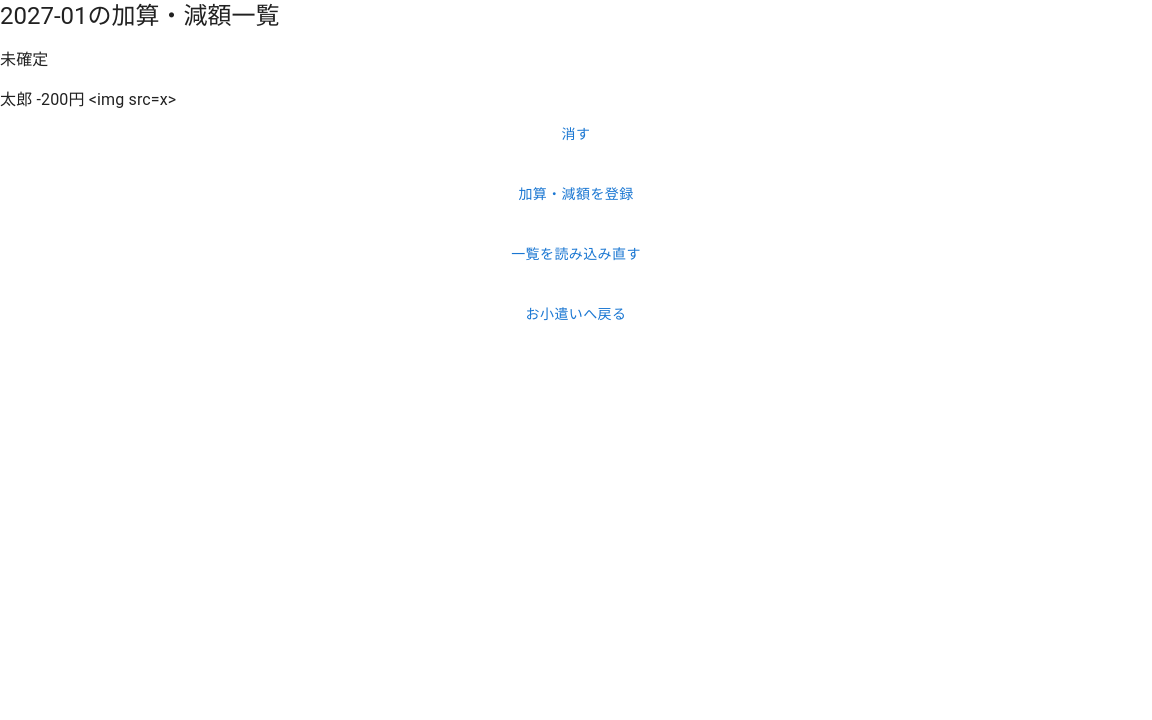
Test: 独立した訂正一覧と確認 › 取消では送らず確認元へフォーカスを戻す
Step 1. Click the button with test id "adjustment-delete" → (576, 134), box left=0, top=112, right=1151, bottom=156
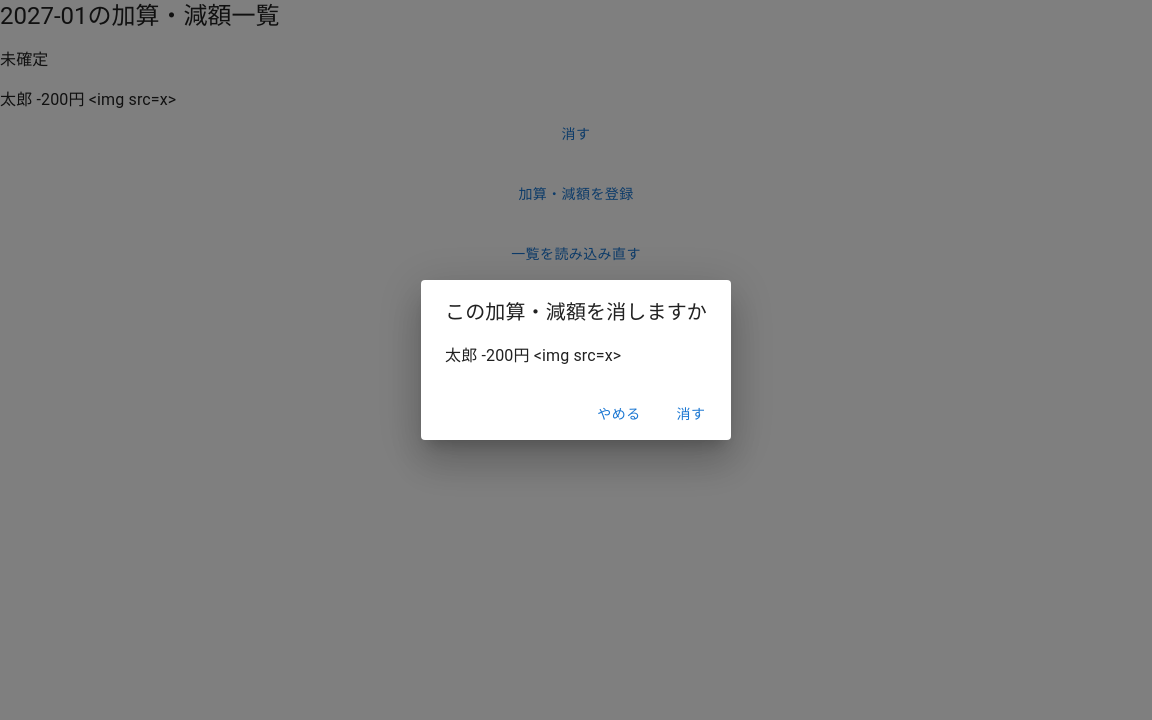
Step 2. Click the button "やめる" → (619, 414), box left=587, top=396, right=651, bottom=432
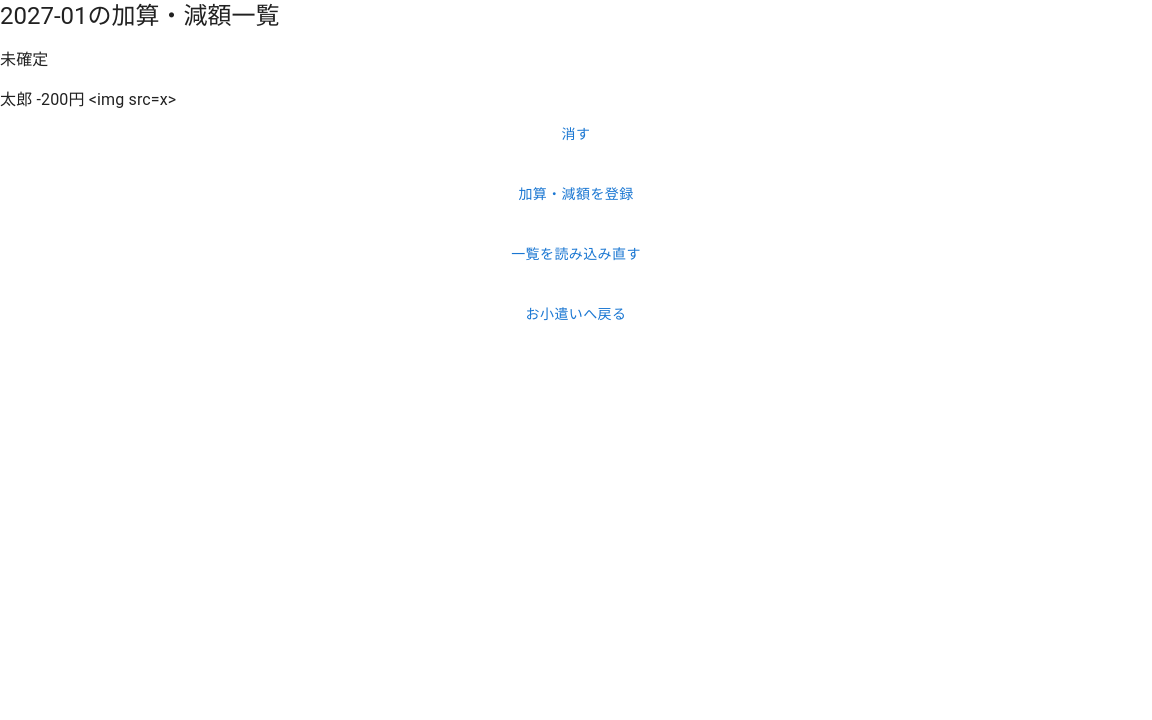
Expected: the dialog is gone
